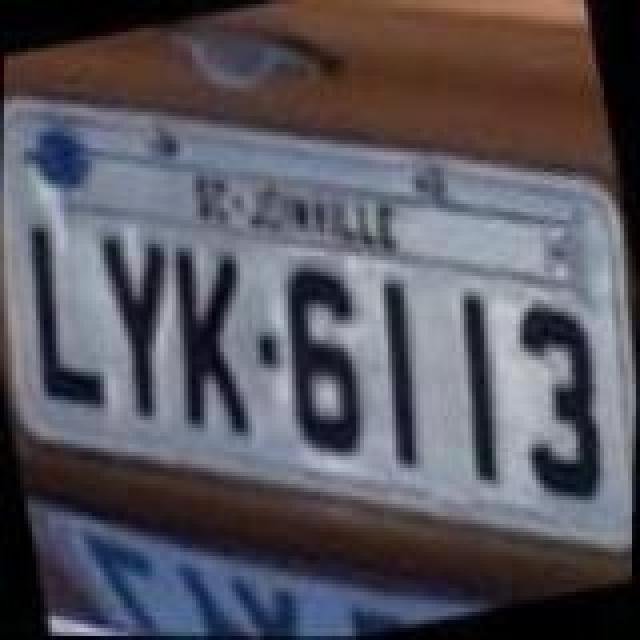1: (436, 286, 524, 490), (360, 280, 444, 472)
3: (496, 294, 624, 514)
6: (266, 258, 386, 466)
K: (154, 234, 274, 446)
L: (8, 216, 116, 424)
Y: (92, 226, 200, 422)
